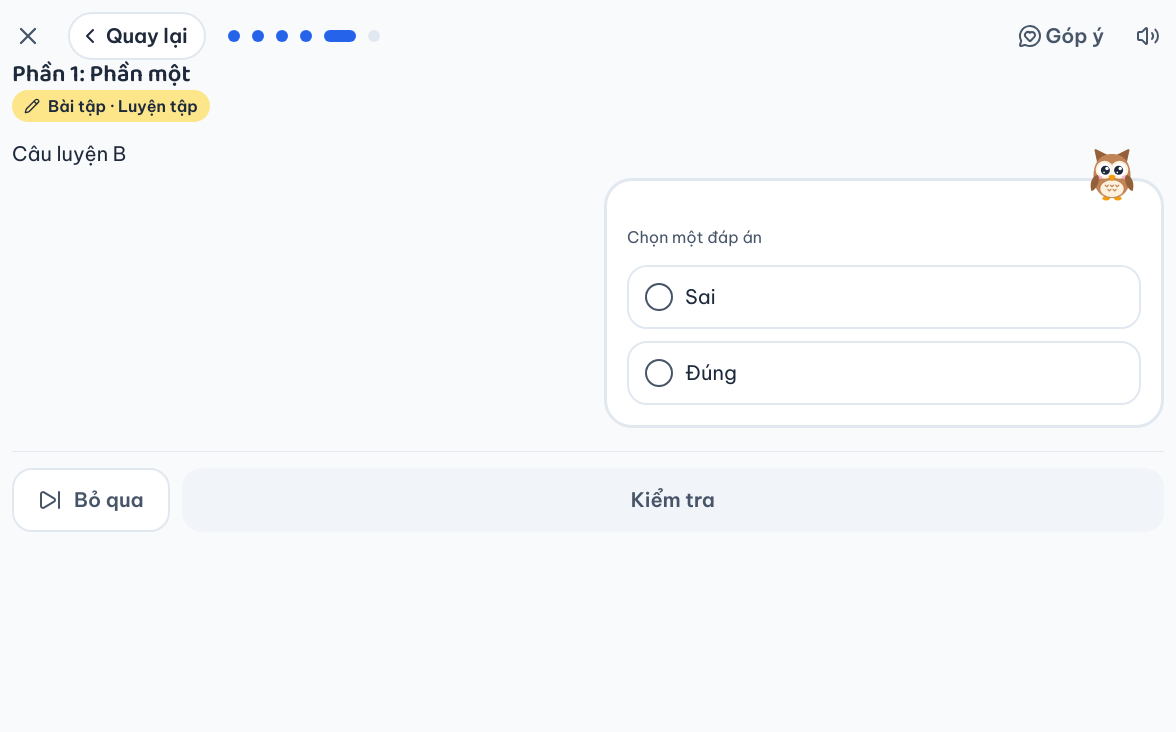
Test: SectionPlayer › going back › shows exercises finished before the child resumed as finished
Click the button "Quay lại" at [137, 36], box [68, 12, 206, 60]
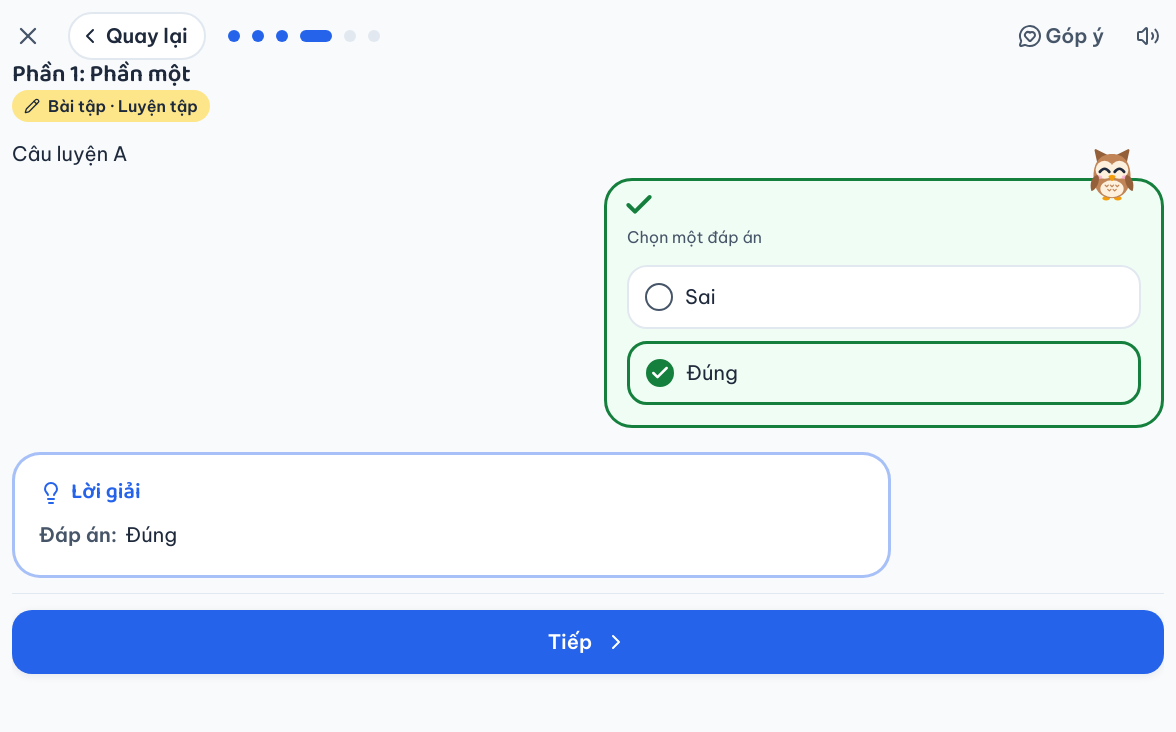
Now the button "Kiểm tra" is gone
Click the button "Tiếp" at [588, 642], box [12, 610, 1164, 674]
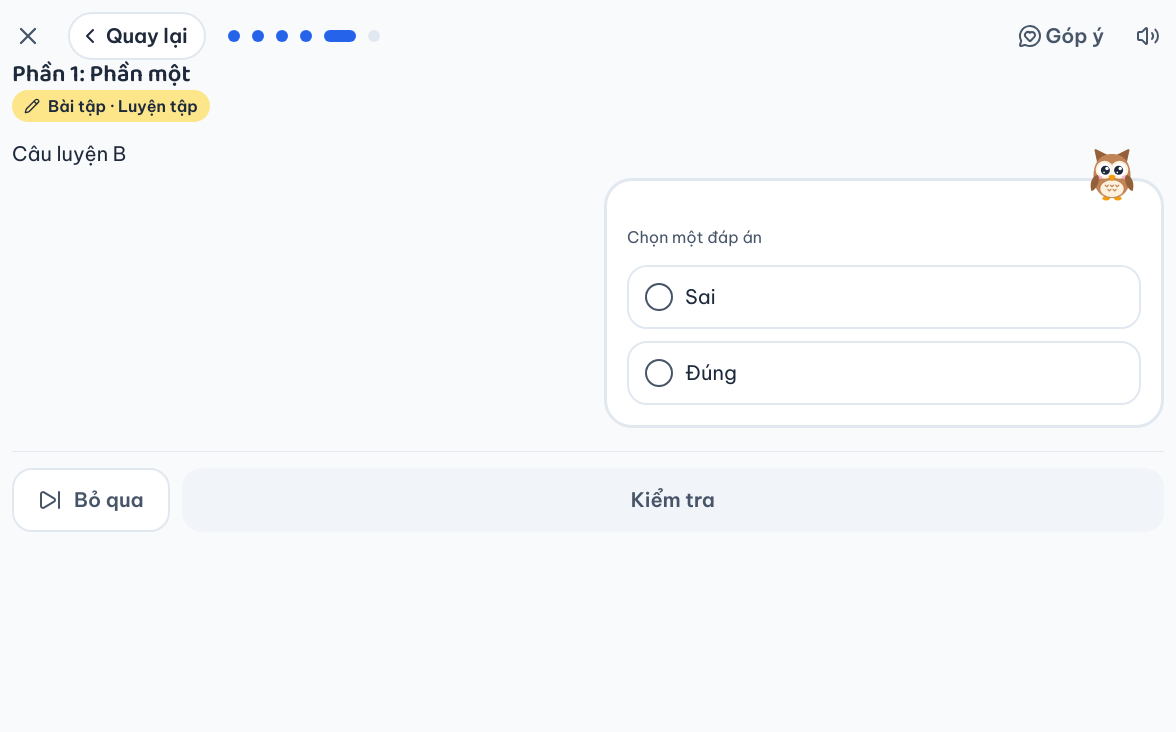
Now the button "Kiểm tra" is disabled, box [182, 468, 1164, 532]
